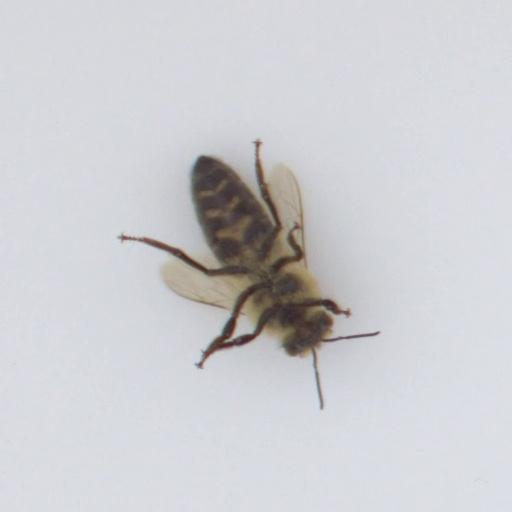Bee: (159, 138, 350, 381)
